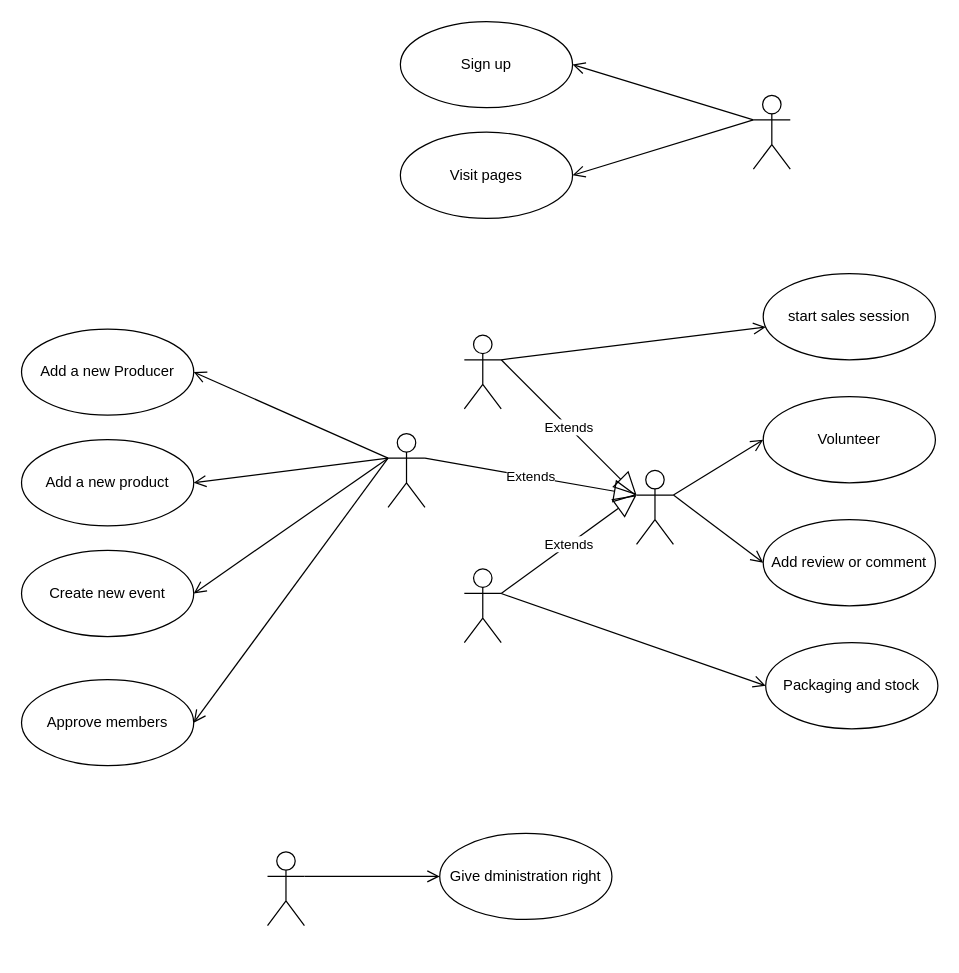
Some shapes in this 959 by 973 pixel diagram are drawn without their labels. The centre of each missing label's shape, as x and y in pixels:
Admin: the point at 406,469
Guest: the point at 771,131
Member: the point at 654,506
Seller: the point at 482,371
Stocker: the point at 482,605
Super User: the point at 285,888
